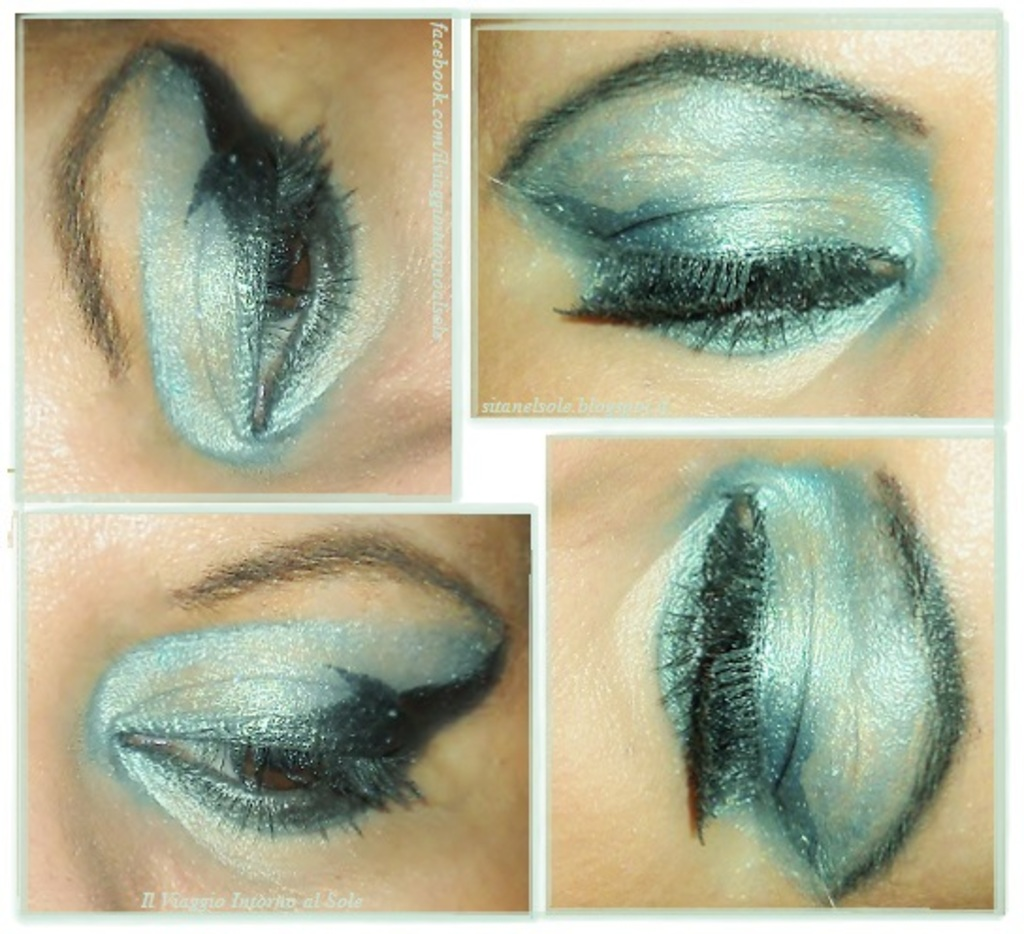Person: (18, 16, 996, 909)
